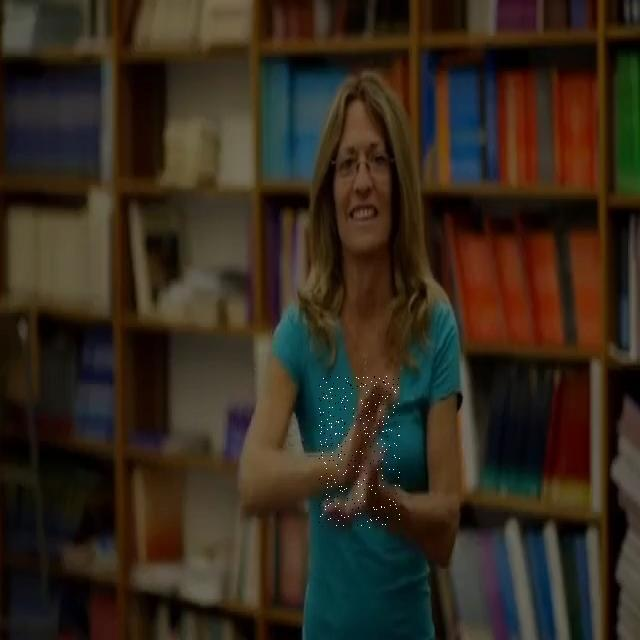cheese: (319, 376, 400, 528)
